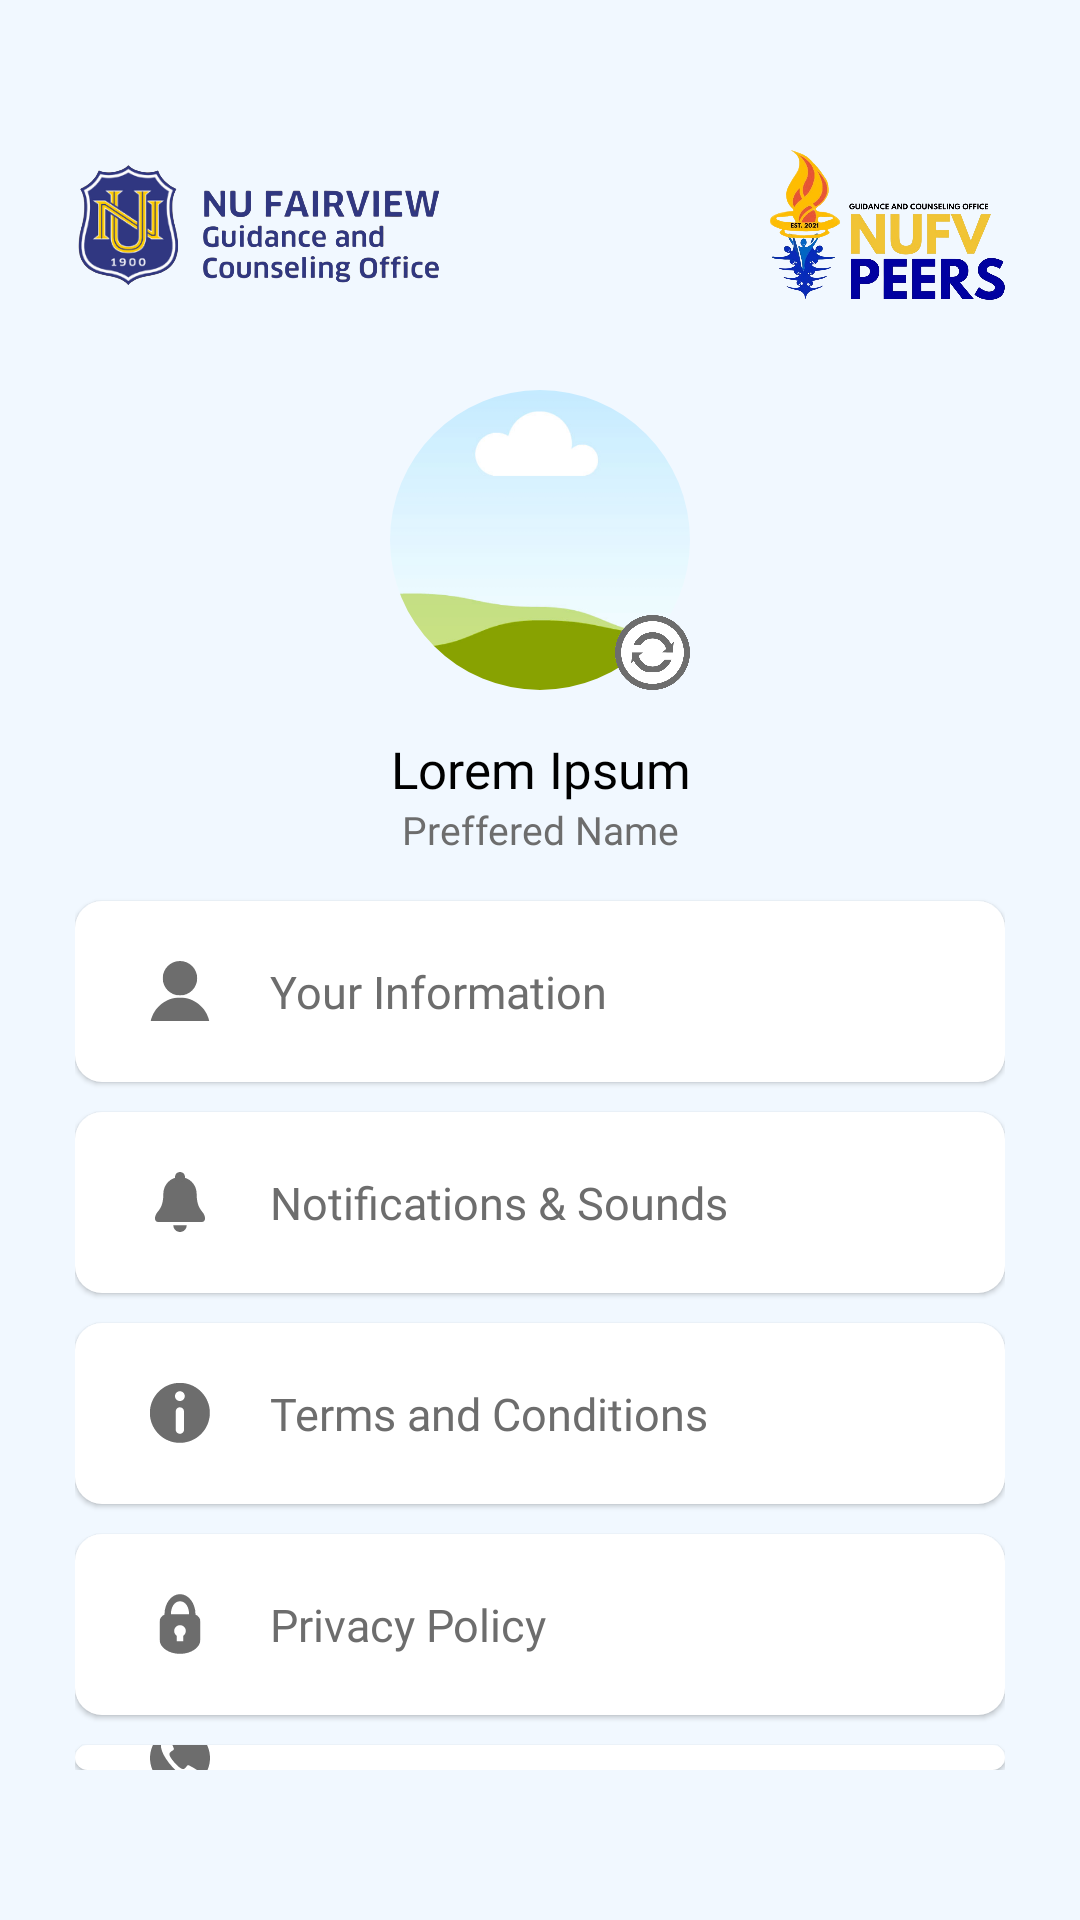

Icons on this 1080px x 1920px Android screen, each with the point to tap as (x=x, y=y):
profile info: (x=180, y=991)
profile notif: (x=180, y=1202)
profile privacy: (x=180, y=1624)
switchphoto: (x=652, y=652)
